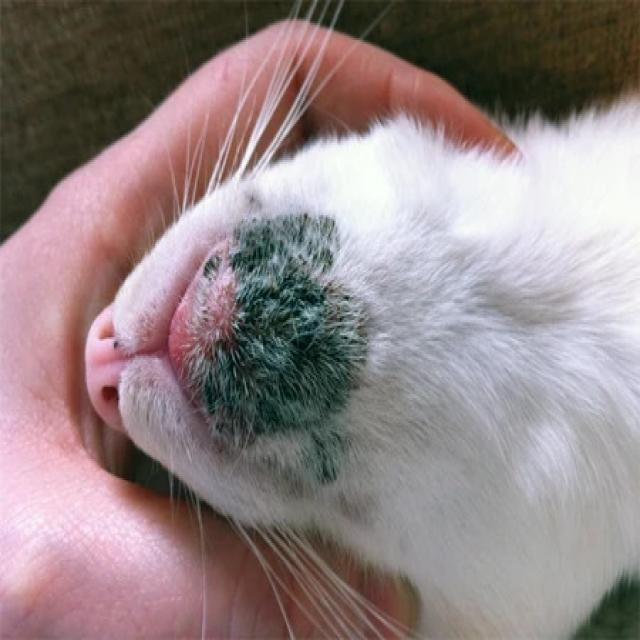cat-acne: (179, 217, 360, 490)
